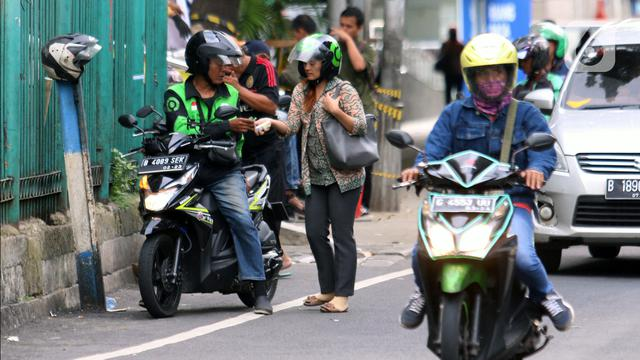plate: (431, 193, 494, 214), (604, 178, 639, 200), (139, 158, 185, 171)
